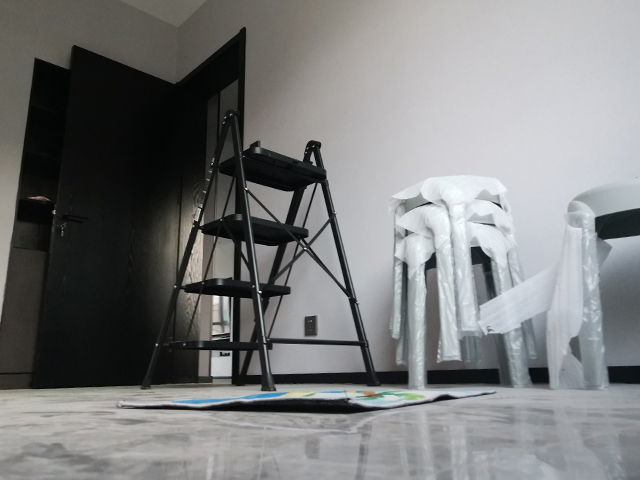carpet: (115, 386, 500, 413)
stool: (386, 173, 541, 390), (562, 180, 640, 391)
